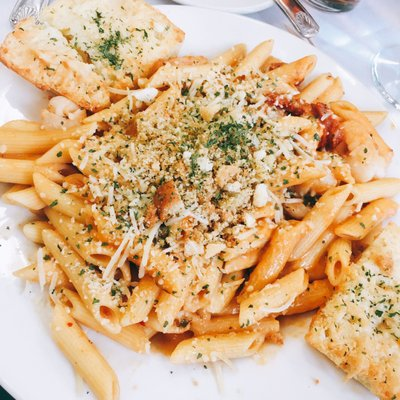salad: (272, 0, 320, 42)
